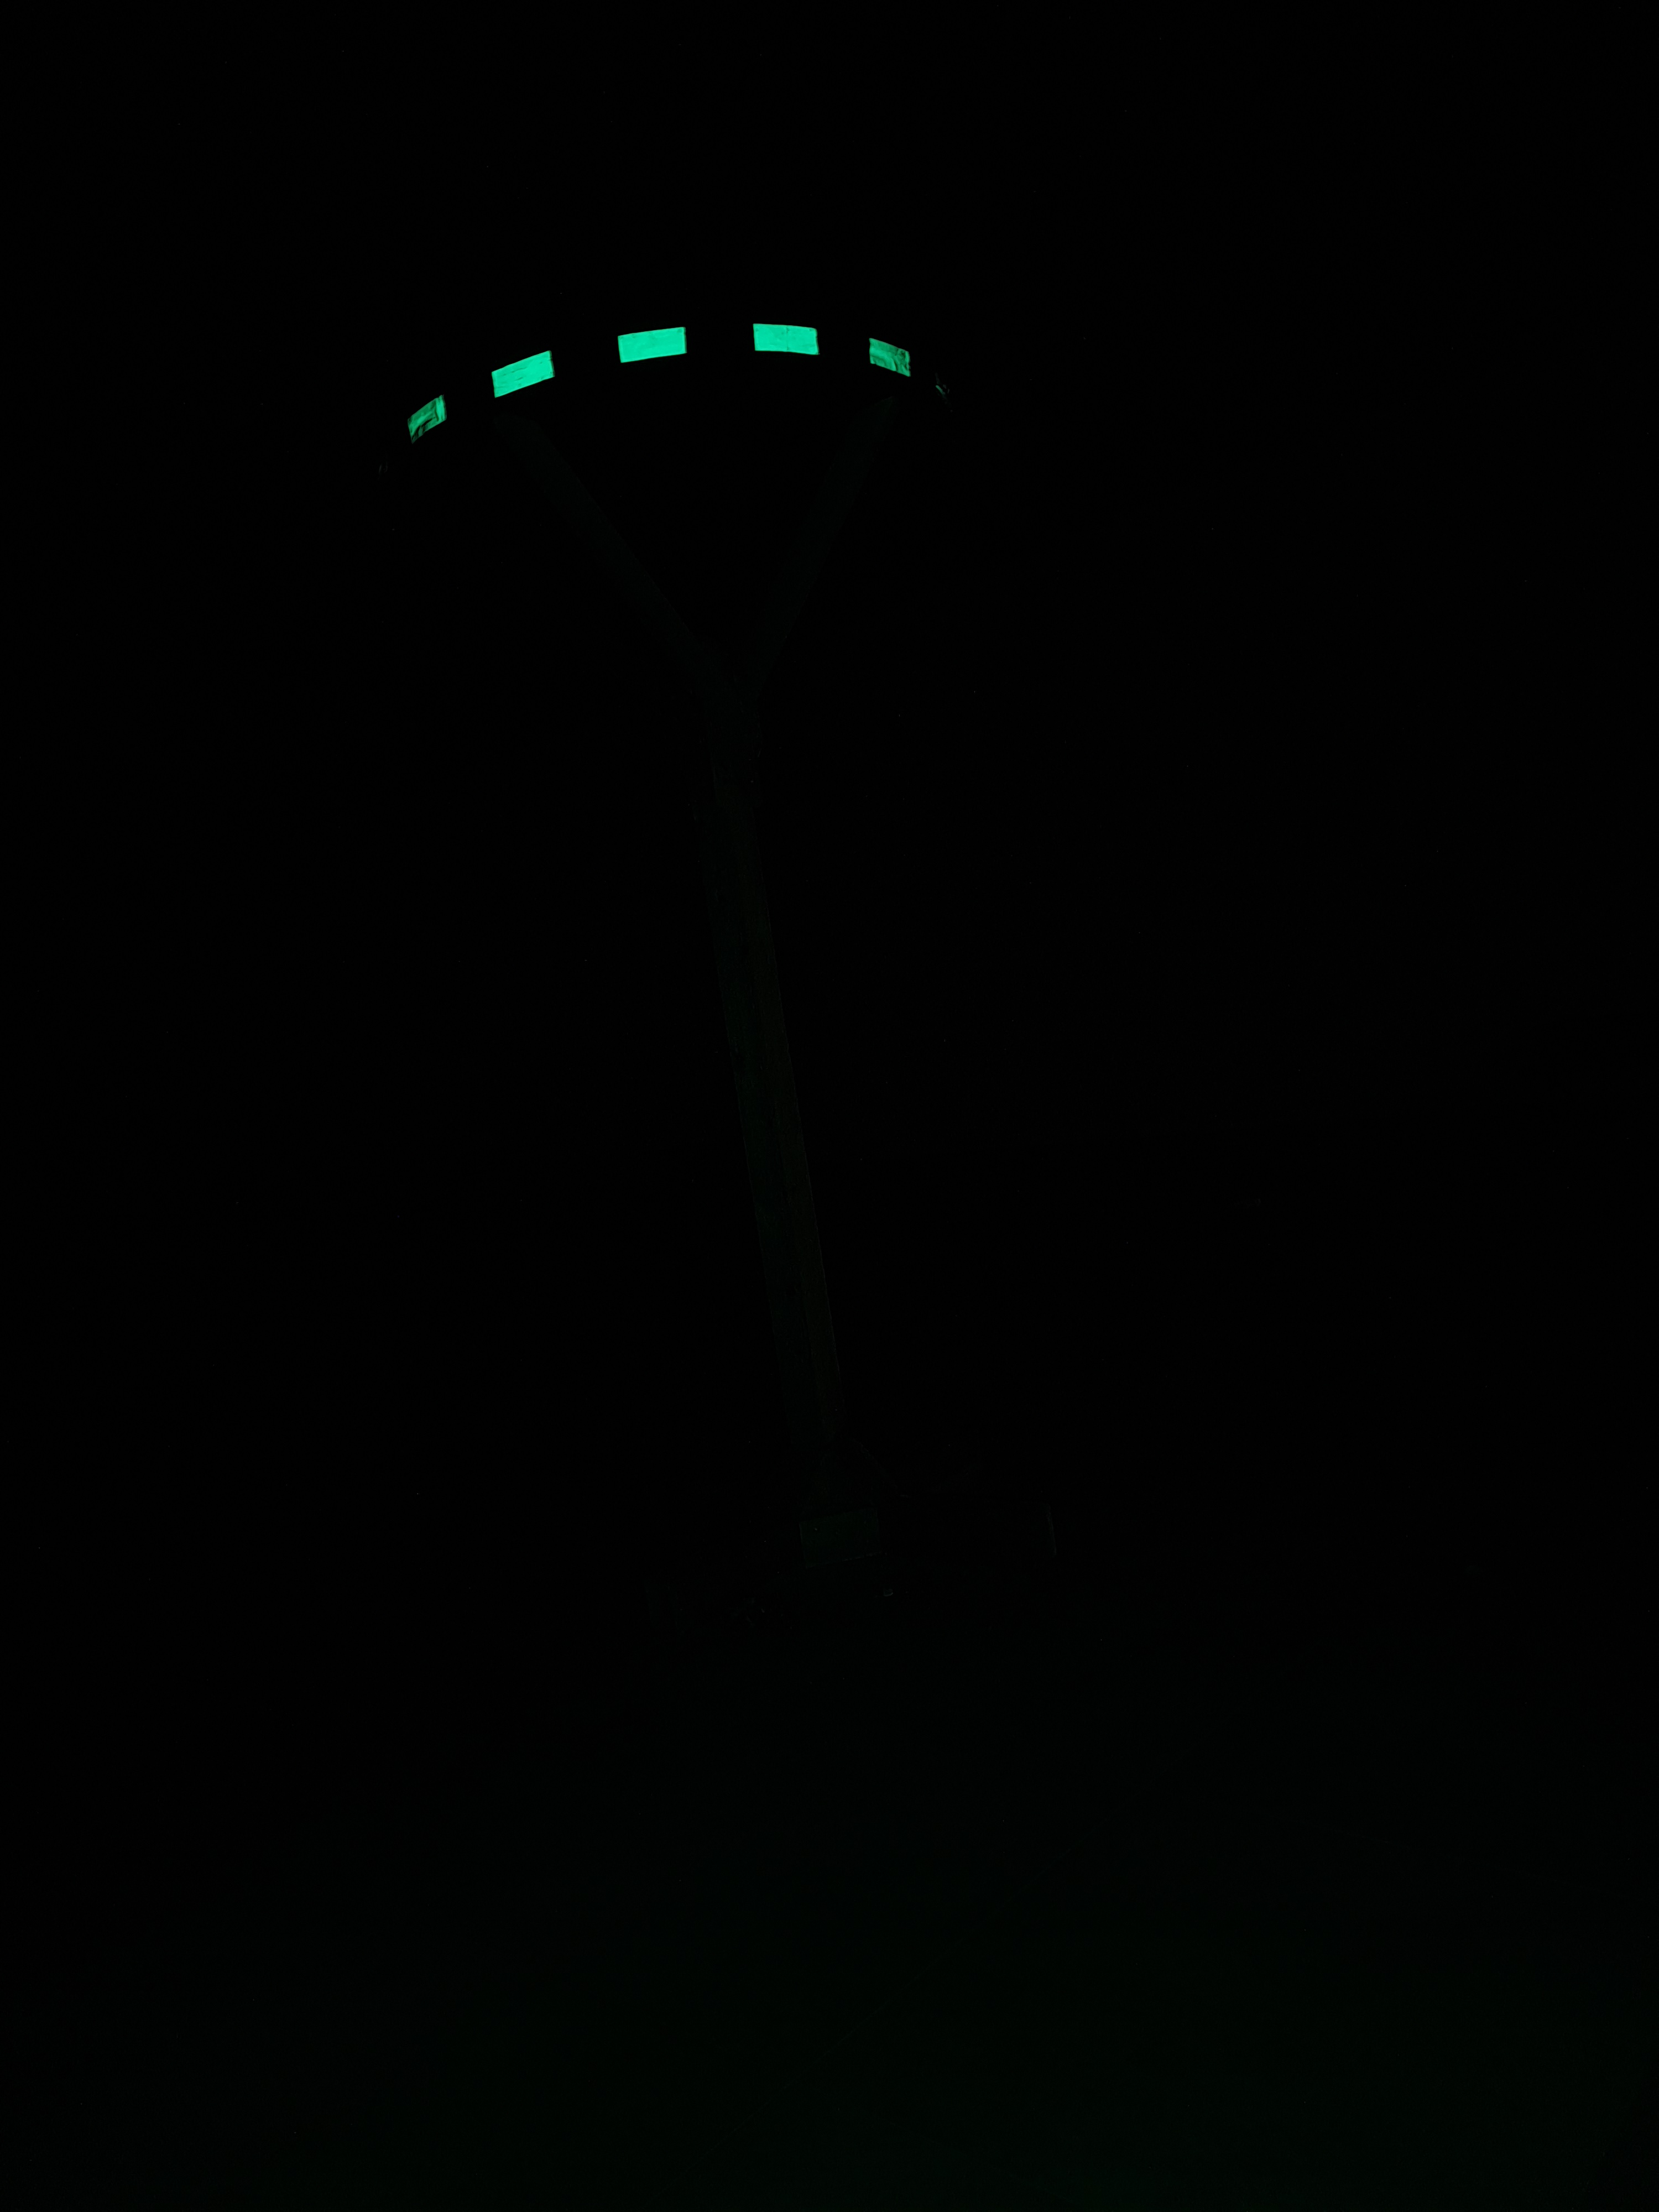hoop: (401, 308, 911, 444)
